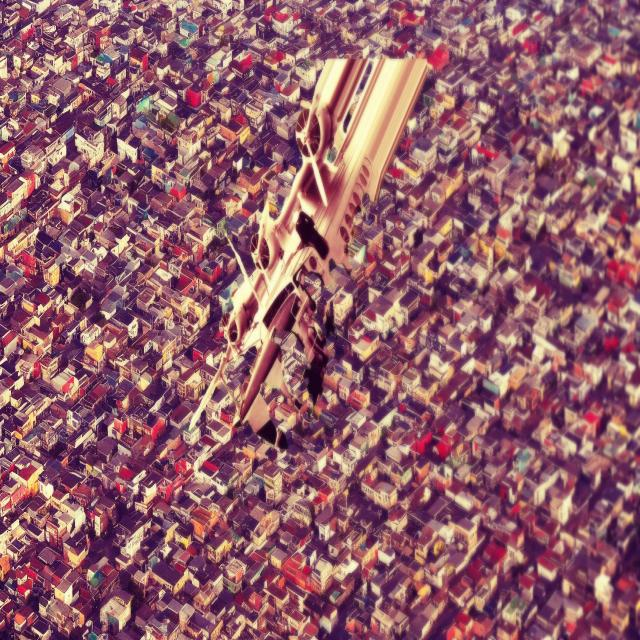airplane: (186, 51, 429, 446)
